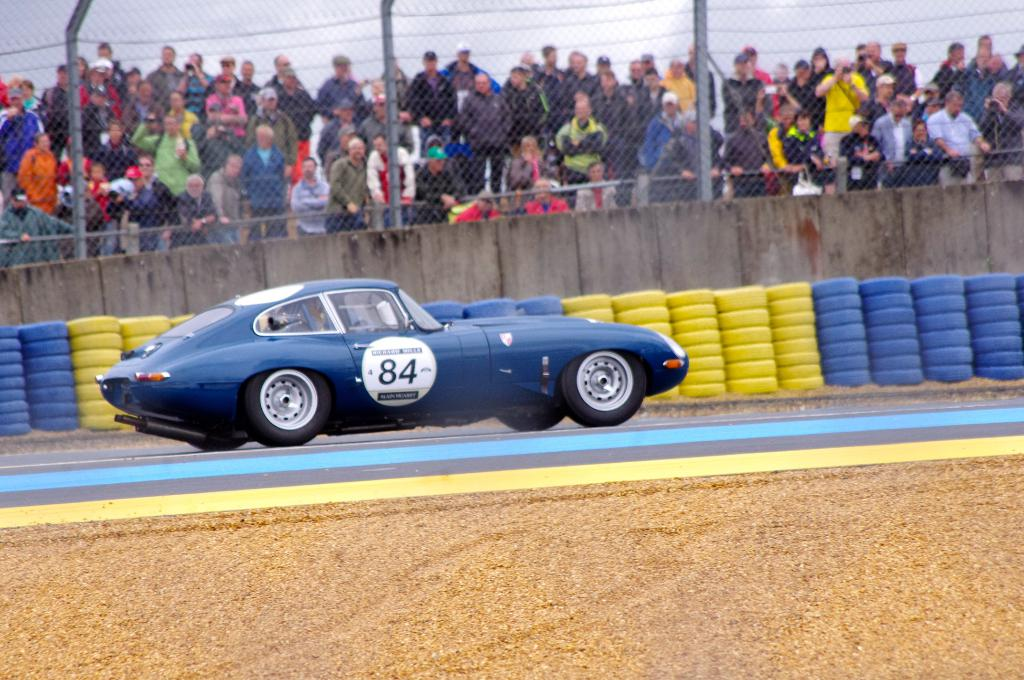Car: (92, 275, 685, 452)
